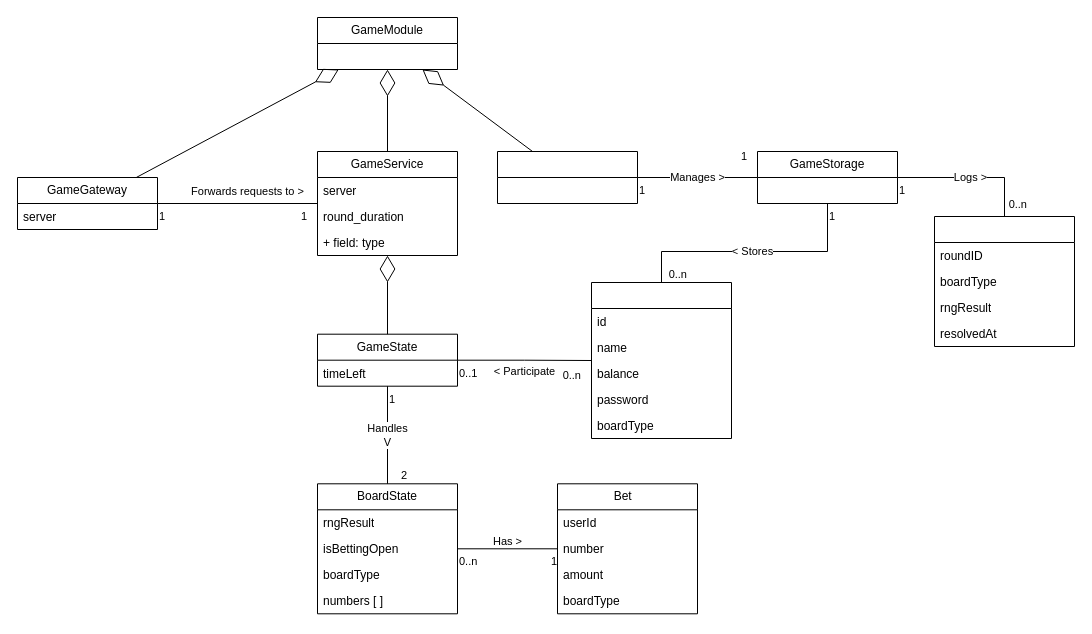
This 1092x634 diagram has some shape labels left out. The box of each missing label's shape, as (x1, y1, x2, y2) in pixels:
JsonUserRepository: (496, 150, 638, 204)
RoundSnapshot: (934, 216, 1074, 346)
User: (590, 282, 732, 438)
